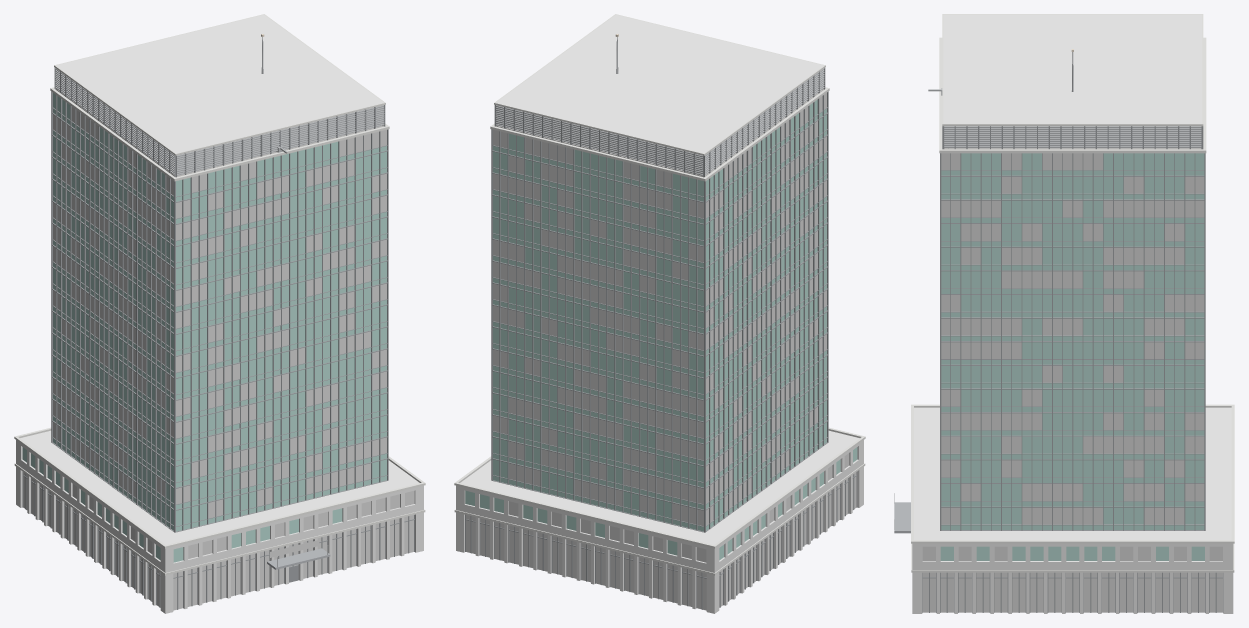
The model's file is tower_p260a.glb.
The picture shows the model from 3 angles, left to right: view 1: azimuth 30°, elevation 25°; view 2: azimuth 150°, elevation 25°; view 3: azimuth 270°, elevation 25°; orthographic projection. The views are drawn at different scales.
Parts seen in each view (by area): view 1: tower_p260a_Glass, tower_p260a_Frames, tower_p260a_WindowsLit, tower_p260a_Roof, tower_p260a_Walls2, tower_p260a_Trim, tower_p260a_Details, tower_p260a_Accent; view 2: tower_p260a_Glass, tower_p260a_Frames, tower_p260a_WindowsLit, tower_p260a_Roof, tower_p260a_Walls2, tower_p260a_Trim, tower_p260a_Details; view 3: tower_p260a_Glass, tower_p260a_WindowsLit, tower_p260a_Roof, tower_p260a_Frames, tower_p260a_Walls2, tower_p260a_Trim, tower_p260a_Details, tower_p260a_Accent.
Part boxes in pixels (<box>): tower_p260a_Glass: <box>22,93,386,562</box>; tower_p260a_Frames: <box>22,68,414,609</box>; tower_p260a_WindowsLit: <box>23,106,414,610</box>; tower_p260a_Roof: <box>20,14,419,544</box>; tower_p260a_Walls2: <box>16,440,423,613</box>; tower_p260a_Trim: <box>14,14,425,575</box>; tower_p260a_Details: <box>55,37,384,567</box>; tower_p260a_Accent: <box>267,548,330,569</box>; tower_p260a_Glass: <box>465,99,857,560</box>; tower_p260a_Frames: <box>465,68,857,609</box>; tower_p260a_WindowsLit: <box>466,93,856,610</box>; tower_p260a_Roof: <box>460,14,859,544</box>; tower_p260a_Walls2: <box>456,440,863,613</box>; tower_p260a_Trim: <box>454,14,865,575</box>; tower_p260a_Details: <box>495,37,824,175</box>; tower_p260a_Glass: <box>940,153,1204,560</box>; tower_p260a_WindowsLit: <box>922,153,1222,612</box>; tower_p260a_Roof: <box>914,14,1231,540</box>; tower_p260a_Frames: <box>922,126,1223,612</box>; tower_p260a_Walls2: <box>912,543,1233,613</box>; tower_p260a_Trim: <box>911,14,1234,572</box>; tower_p260a_Details: <box>894,52,1201,529</box>; tower_p260a_Accent: <box>894,502,910,533</box>.
Size of the model in its own units: 161 by 286 by 170.
